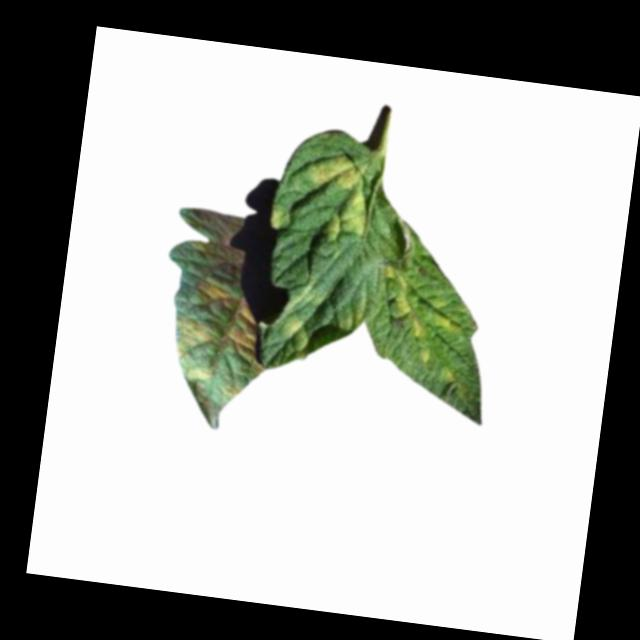Leaf_Mold: (163, 275, 275, 403), (371, 264, 466, 366), (303, 150, 374, 249), (272, 317, 312, 355), (266, 204, 289, 229)
